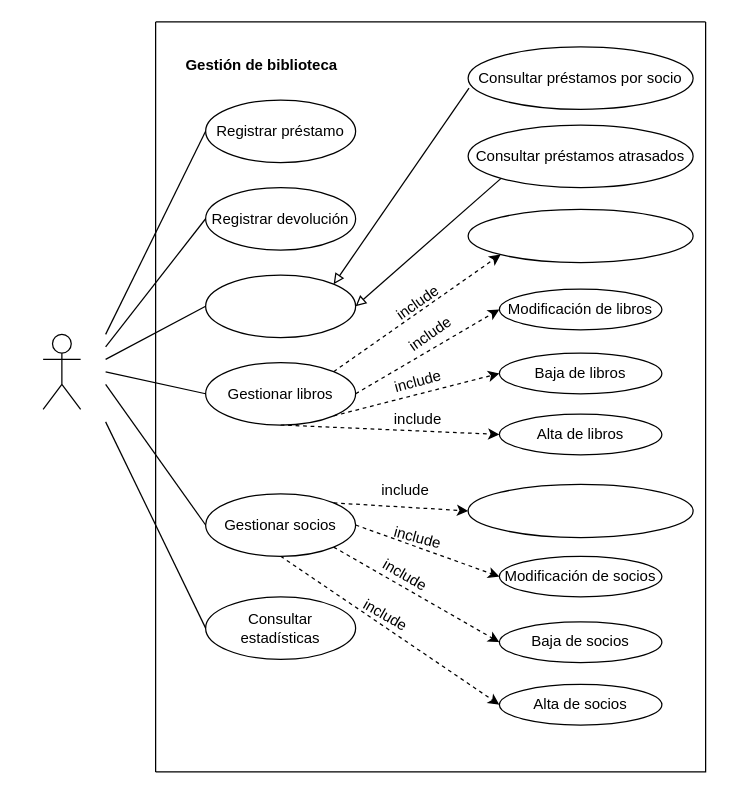
This 729x795 diagram has some shape labels left out. Here are the shapes that lost their labels. From the top down, the centre of each, then its label:
At [580,235]: "Listado y búsqueda de libros".
At [280,306]: "Consultar préstamos".
At [61,371]: "Bibliotecario".
At [580,510]: "Listado y búsqueda de socios".
